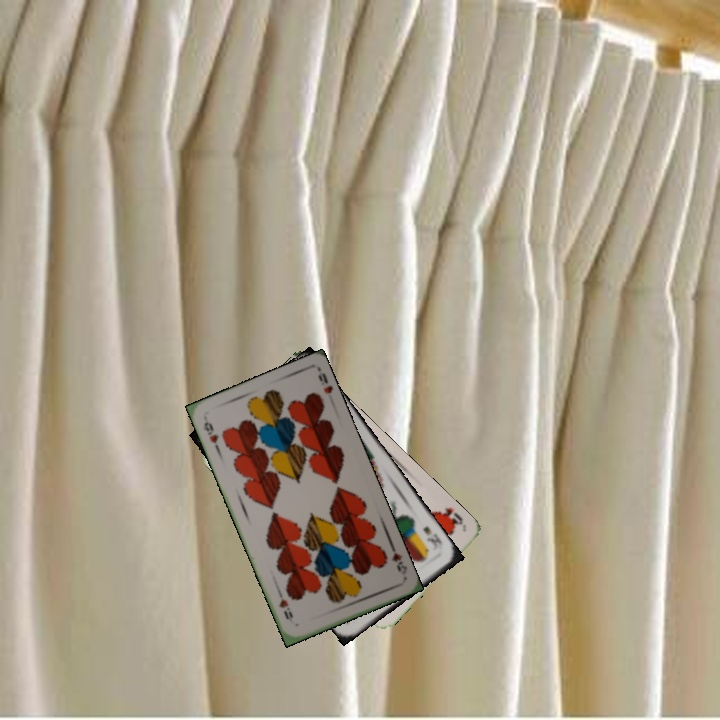EK: (419, 522, 446, 553)
H9: (386, 540, 410, 577), (199, 418, 221, 446)
HO: (434, 503, 465, 530)
